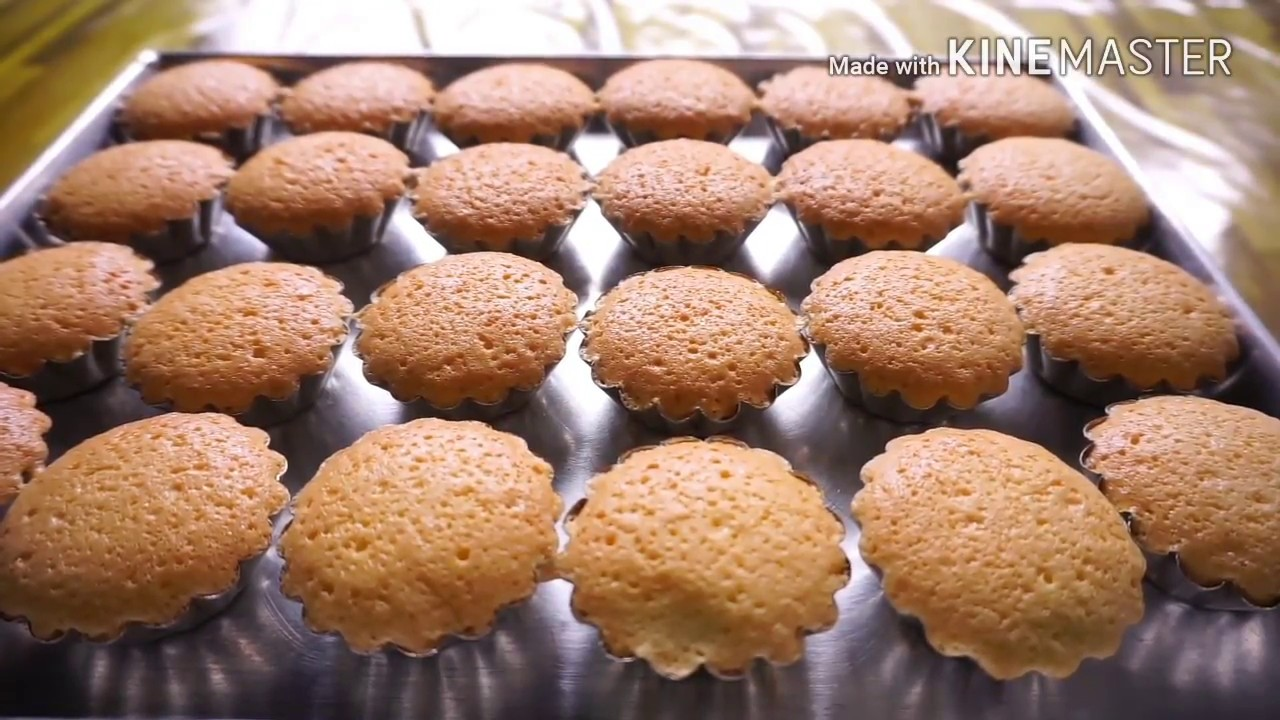kanomkai: (836, 401, 1163, 693), (544, 414, 867, 685), (272, 405, 568, 687), (571, 239, 818, 445), (801, 246, 1044, 423), (115, 252, 357, 426), (365, 253, 581, 428), (770, 124, 980, 270), (407, 136, 614, 271), (589, 133, 787, 271)
